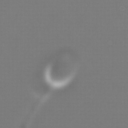normal: (1, 86, 53, 128)
